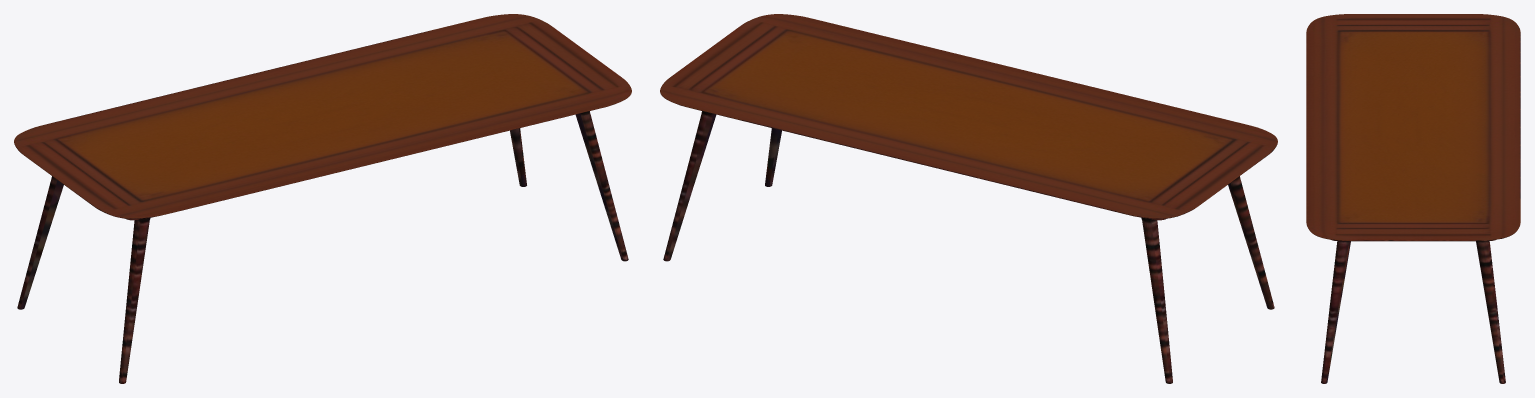
Rendered from edited_mesh.glb.
The picture shows the model from 3 angles, left to right: view 1: azimuth 30°, elevation 25°; view 2: azimuth 150°, elevation 25°; view 3: azimuth 270°, elevation 25°; orthographic projection. The views are drawn at different scales.
Visible parts, largest first — view 1: normalized_model.obj; view 2: normalized_model.obj; view 3: normalized_model.obj.
Part boxes in pixels (bbox=[...]): normalized_model.obj: bbox=[14, 14, 631, 383]; normalized_model.obj: bbox=[660, 14, 1277, 383]; normalized_model.obj: bbox=[1306, 14, 1520, 383].
Bounding box in the file's own units: 2 × 0.6096 × 0.8.
Materials: 1 (1 with a texture image).
